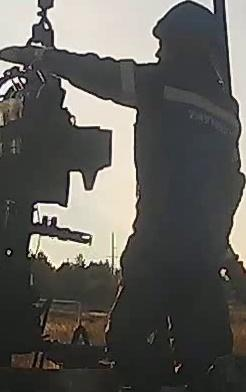gloves: (0, 44, 54, 70)
helmet: (152, 0, 214, 61)
vest: (119, 61, 246, 263)
